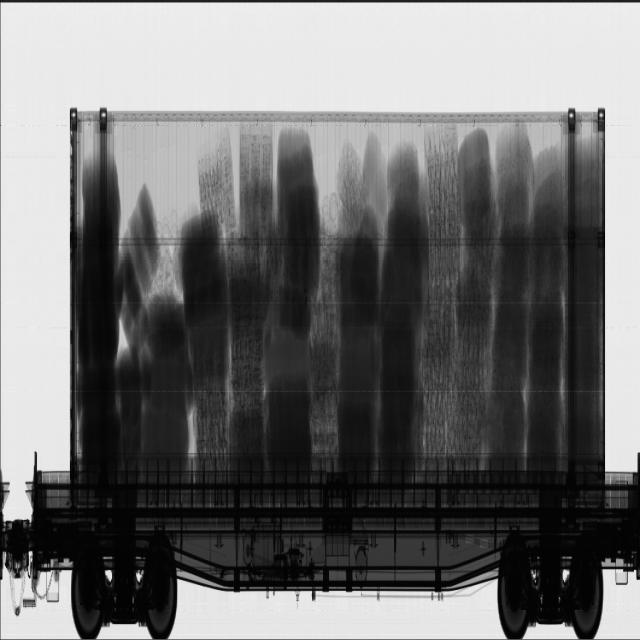clothes: (75, 147, 226, 454), (335, 207, 423, 467), (266, 126, 319, 468)
shoes: (193, 123, 280, 458)
textiles: (456, 124, 602, 472)
